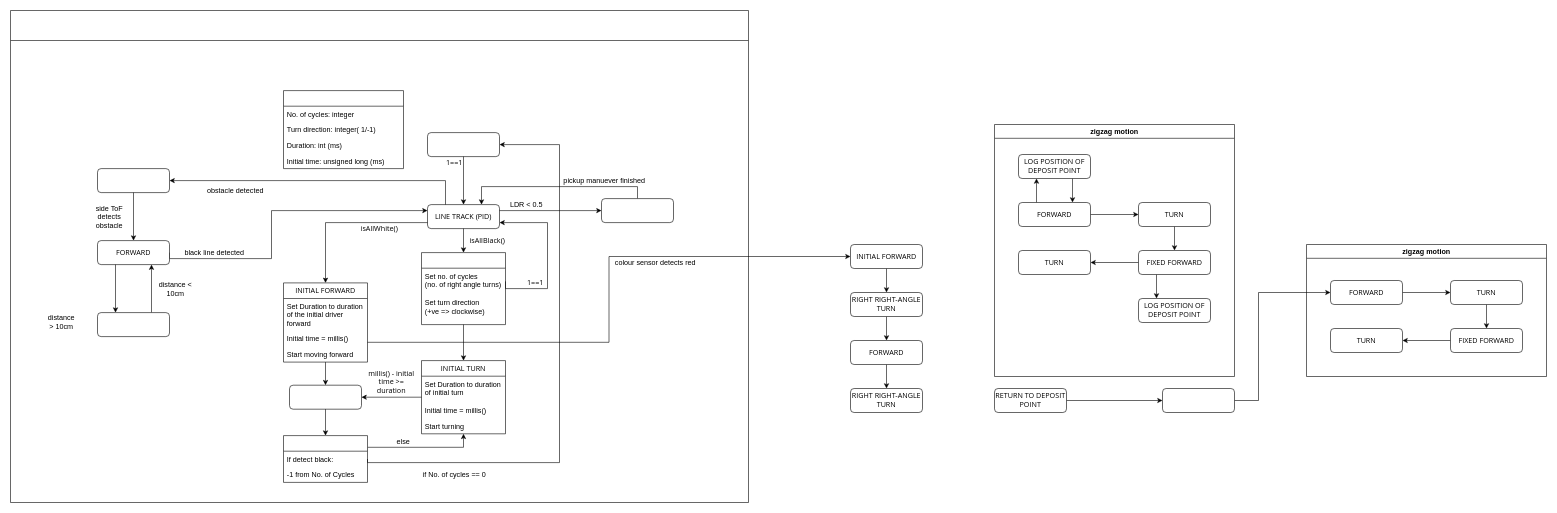
Some shapes in this 1557 by 513 pixel diagram are drawn without their labels. Each missing label, with the box of its shape:
DEPOSIT: (1162, 388, 1234, 412)
PICKUP MANUEVER: (601, 198, 674, 223)
Pre and Post Evacuation Zone: (10, 10, 748, 502)
READ COLOR SENSORS: (421, 252, 506, 325)
READ FOR BLACK LINE: (283, 435, 368, 482)
RESE T: (427, 132, 500, 157)
STATE: (283, 90, 404, 169)
TURN ANTI-CLOCKWISE: (97, 168, 170, 193)
TURN CLOCKWISE: (97, 312, 170, 337)
WAIT: (289, 385, 362, 409)
